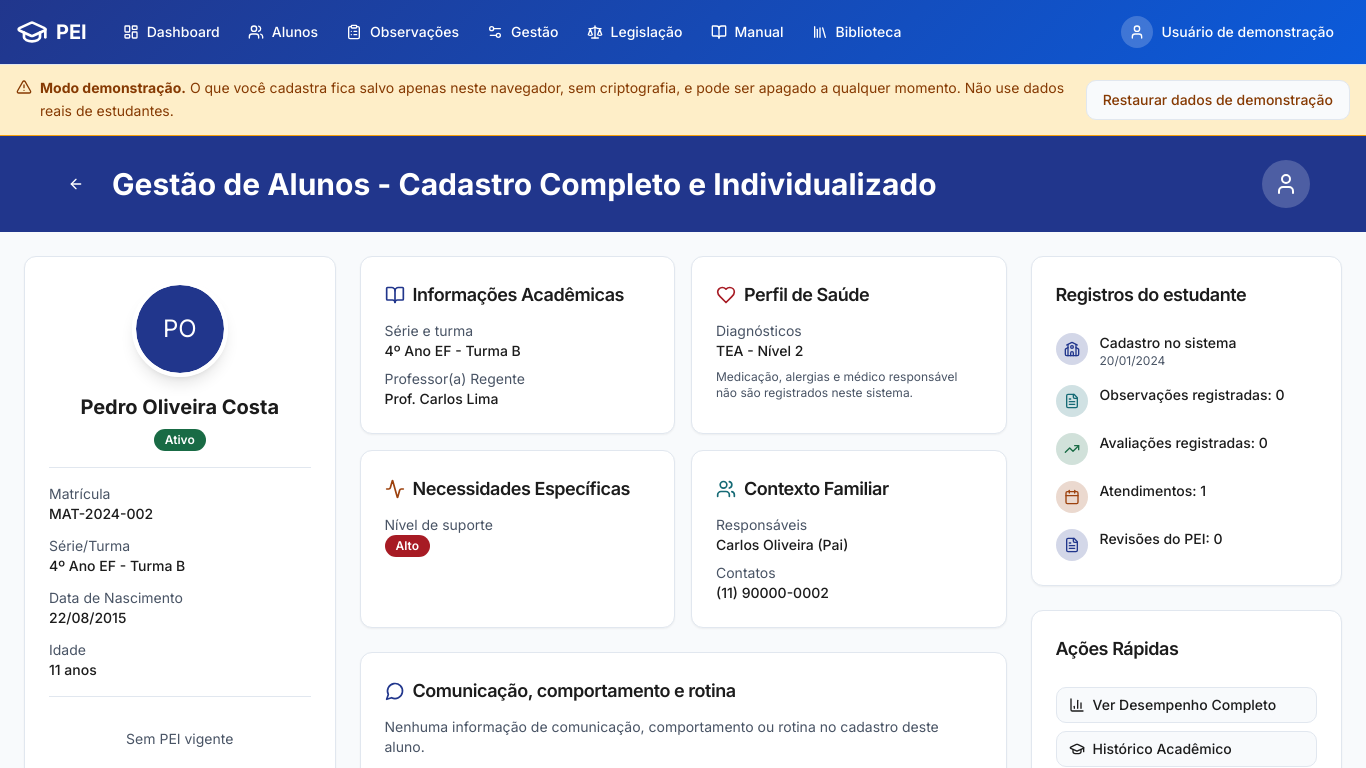
Test: Desempenho: os números vêm dos registros do estudante › estudante sem registros: a tela diz o que falta, sem porcentagem
Click the button "Ver Desempenho Completo": (1186, 704) [1056,686,1317,722]
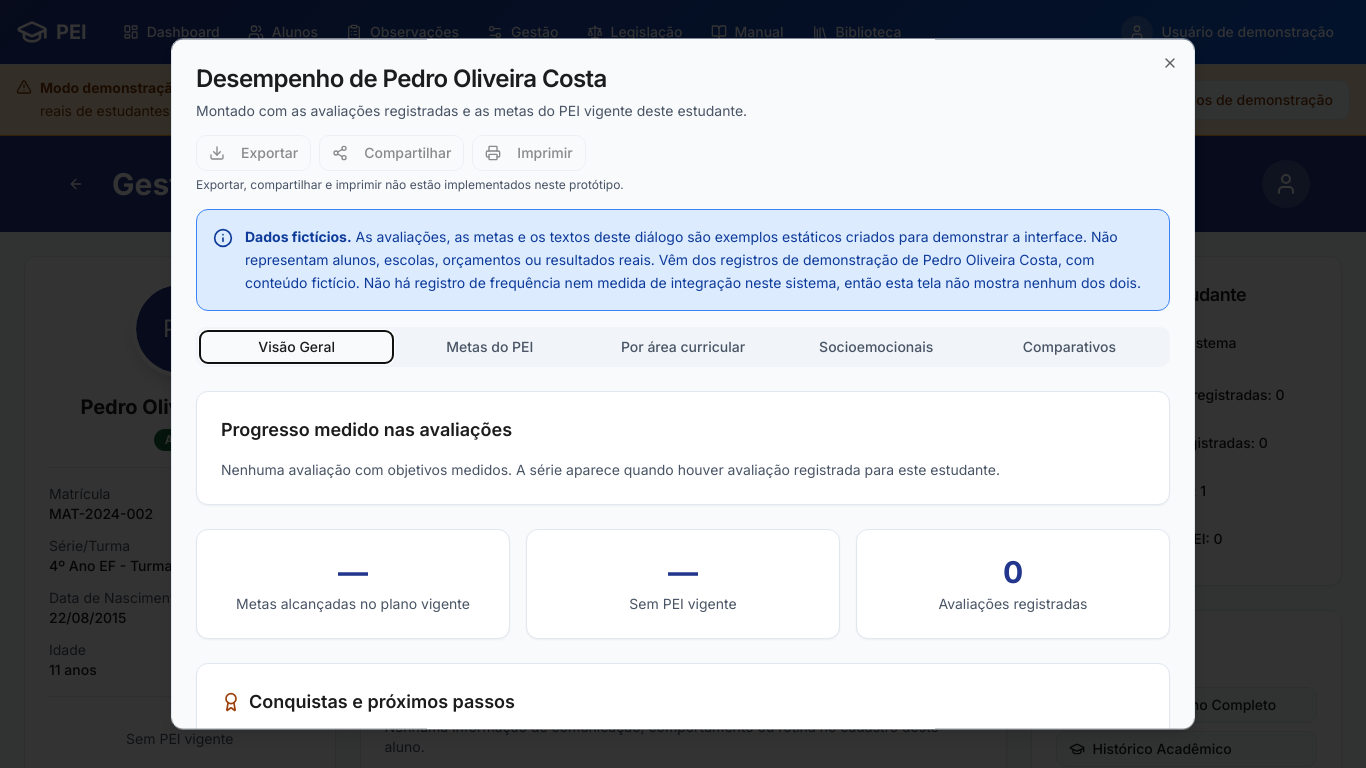
Expected: the text "Nenhuma avaliação com objetivos medidos" is shown, [221,462,1000,479]
Expected: the text "Sem PEI vigente" is shown, [629,596,737,613]
